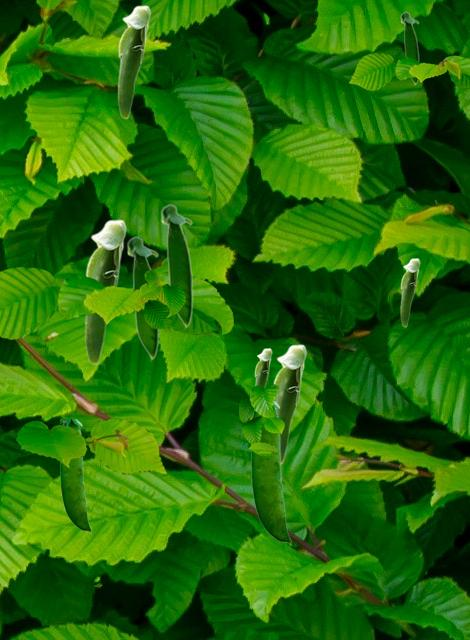pea: (84, 219, 126, 364), (251, 402, 290, 544), (271, 344, 306, 463), (126, 235, 158, 361), (160, 203, 192, 329), (117, 5, 150, 118), (60, 419, 90, 532), (400, 11, 418, 85), (400, 258, 419, 326), (254, 348, 271, 387)
